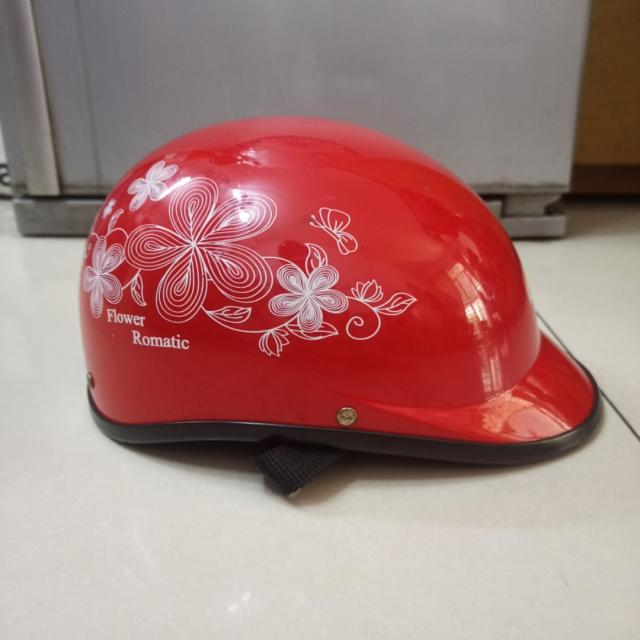Helmet: (74, 112, 605, 476)
